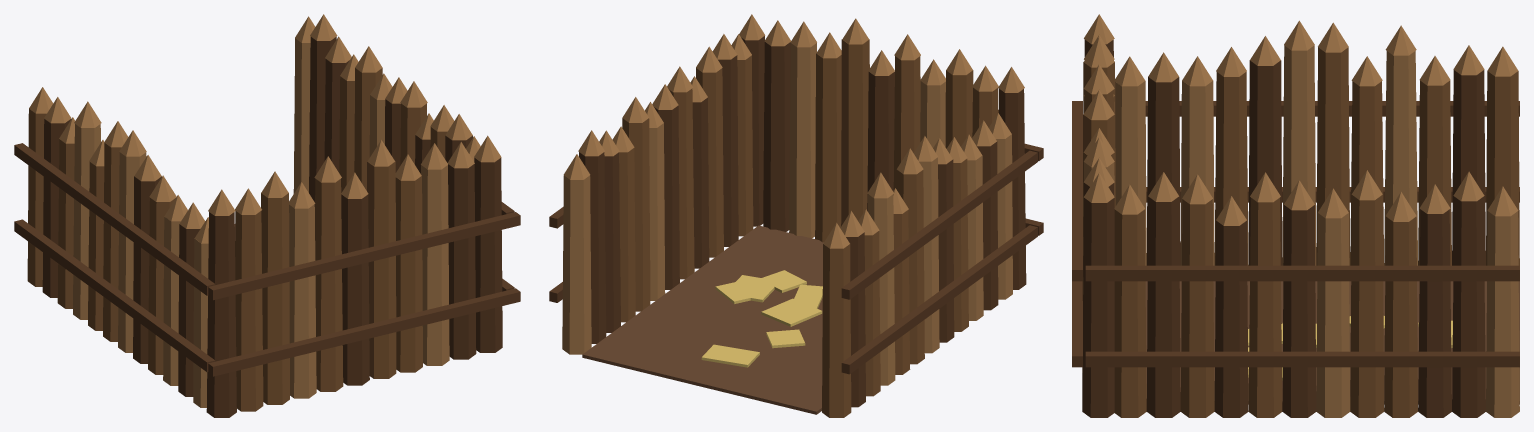
File: SM_YardPen.fbx
3 renders of one model, left to right at view 1: azimuth 30°, elevation 25°; view 2: azimuth 150°, elevation 25°; view 3: azimuth 270°, elevation 25°, orthographic. The views are drawn at different scales.
Parts seen in each view (by area): view 1: SM_YardPen_Pen; view 2: SM_YardPen_Pen; view 3: SM_YardPen_Pen.
Part boxes in pixels (bbox=[...]): SM_YardPen_Pen: bbox=[14, 14, 520, 417]; SM_YardPen_Pen: bbox=[549, 14, 1043, 417]; SM_YardPen_Pen: bbox=[1072, 14, 1519, 417].
Bounding box in the file's own units: 5.9 × 6.6 × 4.29.
